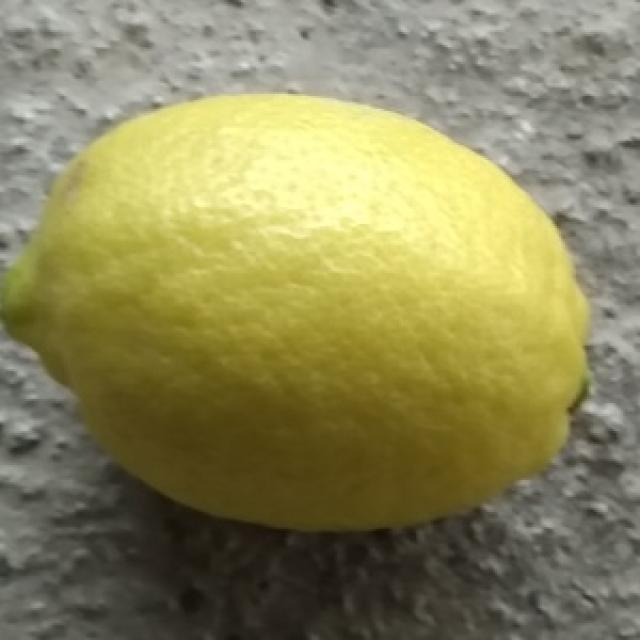Ripe: (0, 86, 599, 540)
